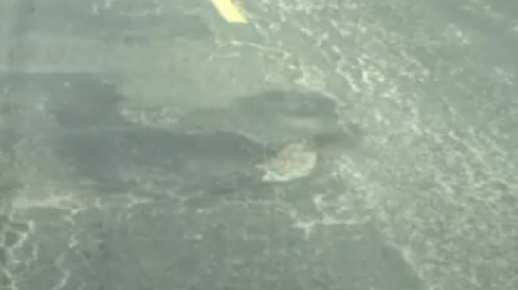Retak Buaya: (242, 2, 483, 196), (271, 180, 518, 290), (1, 179, 303, 232), (436, 28, 518, 180), (84, 1, 261, 60), (1, 213, 105, 289), (38, 104, 192, 134)
